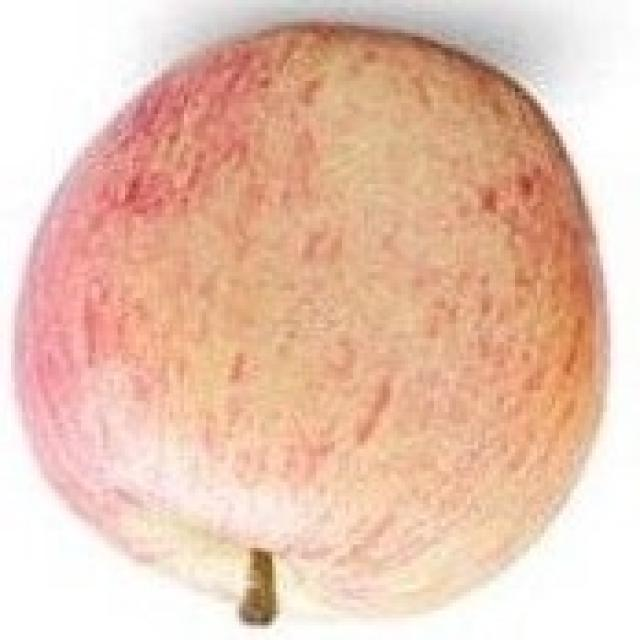75-_ripeness: (13, 24, 611, 616)
